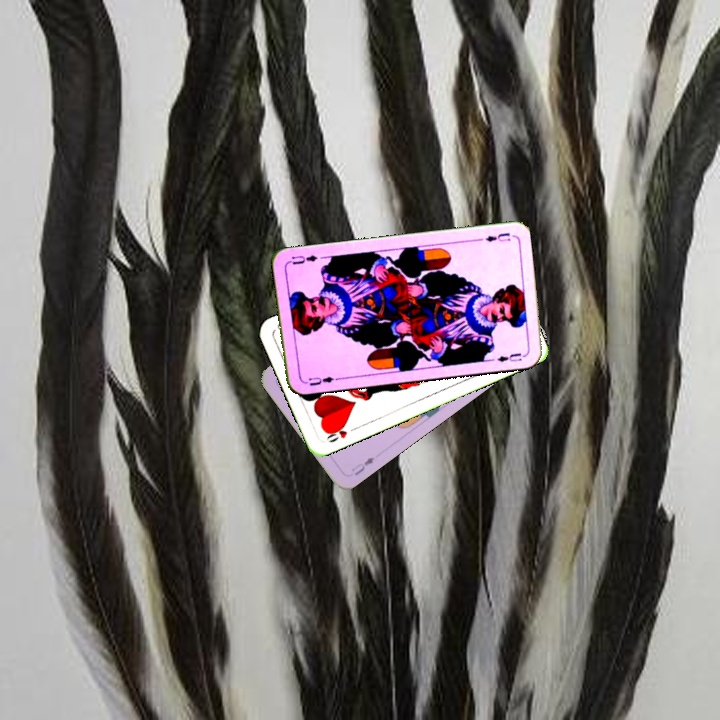EU: (347, 453, 377, 478), (305, 372, 341, 388), (481, 229, 513, 244)
HO: (322, 421, 360, 445)
